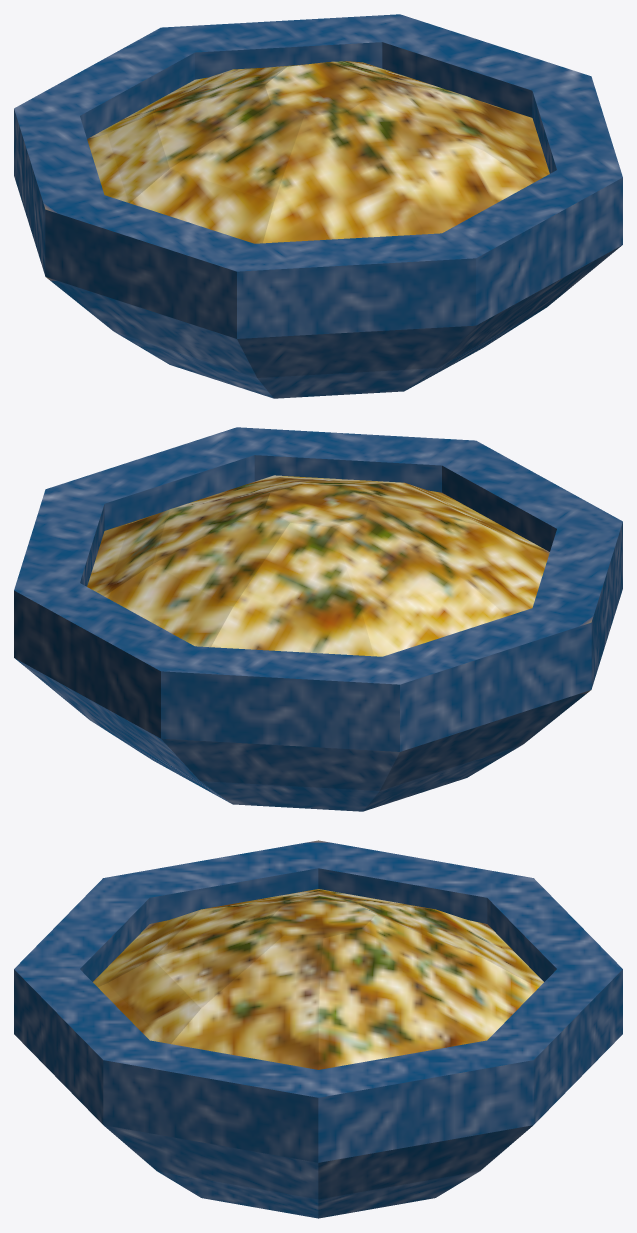
Rendered from MacNCheese.fbx.
The picture shows the model from 3 angles, top to bottom: view 1: azimuth 30°, elevation 25°; view 2: azimuth 150°, elevation 25°; view 3: azimuth 270°, elevation 25°; orthographic projection. The views are drawn at different scales.
Visible parts, largest first — view 1: BowlEmpty; view 2: BowlEmpty; view 3: BowlEmpty.
Boxes of the visible parts, left/top/right/bottom form: BowlEmpty: left=14, top=14, right=622, bottom=398; BowlEmpty: left=14, top=427, right=622, bottom=811; BowlEmpty: left=14, top=840, right=622, bottom=1218.
Bounding box in the file's own units: 266 × 113 × 266.
